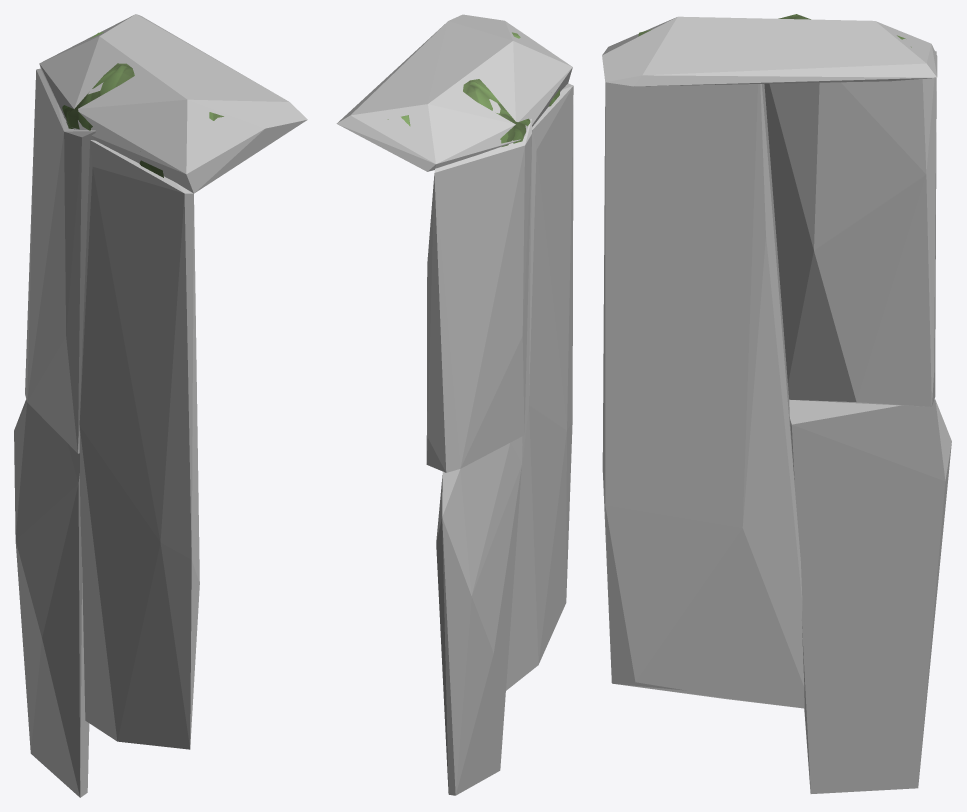
File: SM_Env_Vines_Preset_Overhang_04.fbx
3 views of the same model, side by side, from view 1: azimuth 30°, elevation 25°; view 2: azimuth 150°, elevation 25°; view 3: azimuth 270°, elevation 25° (orthographic). The views are drawn at different scales.
Parts seen in each view (by area): view 1: SM_Env_Vines_Preset_Overhang_04_ConvexHulls, SM_Env_Vines_Preset_Overhang_04; view 2: SM_Env_Vines_Preset_Overhang_04_ConvexHulls, SM_Env_Vines_Preset_Overhang_04; view 3: SM_Env_Vines_Preset_Overhang_04_ConvexHulls.
Boxes of the visible parts, left/top/right/bottom form: SM_Env_Vines_Preset_Overhang_04_ConvexHulls: left=14, top=14, right=307, bottom=797; SM_Env_Vines_Preset_Overhang_04: left=62, top=32, right=223, bottom=177; SM_Env_Vines_Preset_Overhang_04_ConvexHulls: left=336, top=14, right=573, bottom=795; SM_Env_Vines_Preset_Overhang_04: left=387, top=32, right=559, bottom=146; SM_Env_Vines_Preset_Overhang_04_ConvexHulls: left=602, top=16, right=951, bottom=793.
Size of the model in its own units: 64.07 by 112 by 284.
3 materials, 2 textured.
